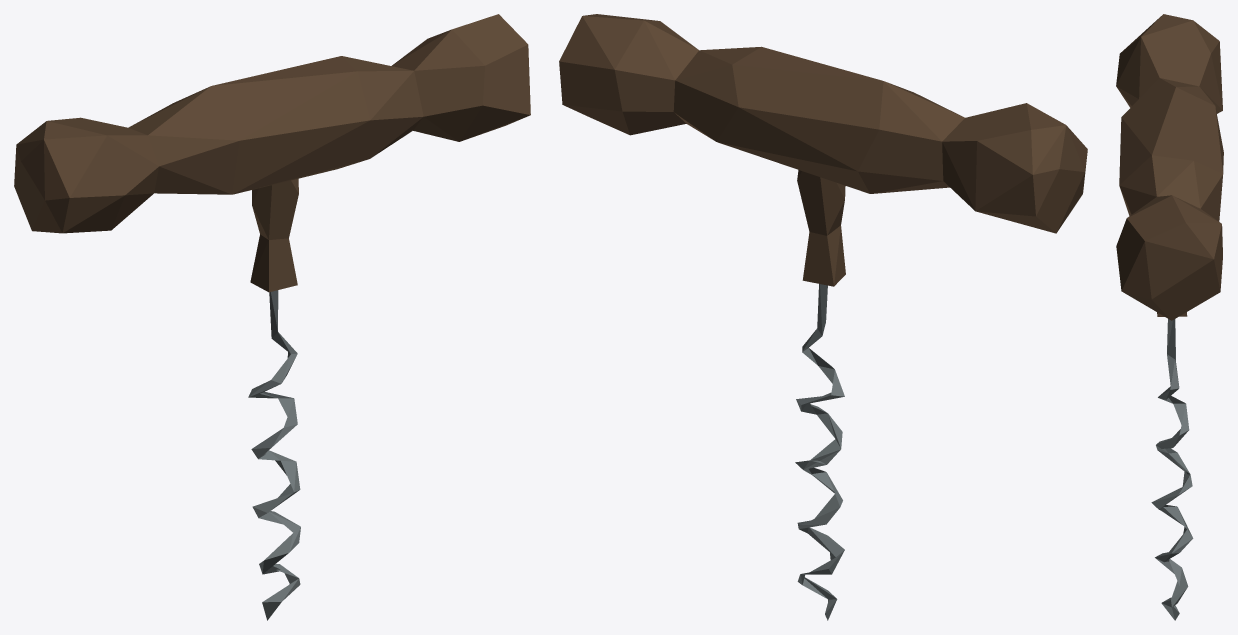
File: Corkscrew.fbx
The picture shows the model from 3 angles, left to right: view 1: azimuth 30°, elevation 25°; view 2: azimuth 150°, elevation 25°; view 3: azimuth 270°, elevation 25°; orthographic projection. The views are drawn at different scales.
Visible parts, largest first — view 1: CorkscrewLowPoly; view 2: CorkscrewLowPoly; view 3: CorkscrewLowPoly.
Boxes of the visible parts, <box> form: CorkscrewLowPoly: <box>14,14,530,620</box>; CorkscrewLowPoly: <box>559,14,1087,620</box>; CorkscrewLowPoly: <box>1116,14,1223,620</box>.
Bounding box in the file's own units: 9.2 × 9.92 × 1.91.
